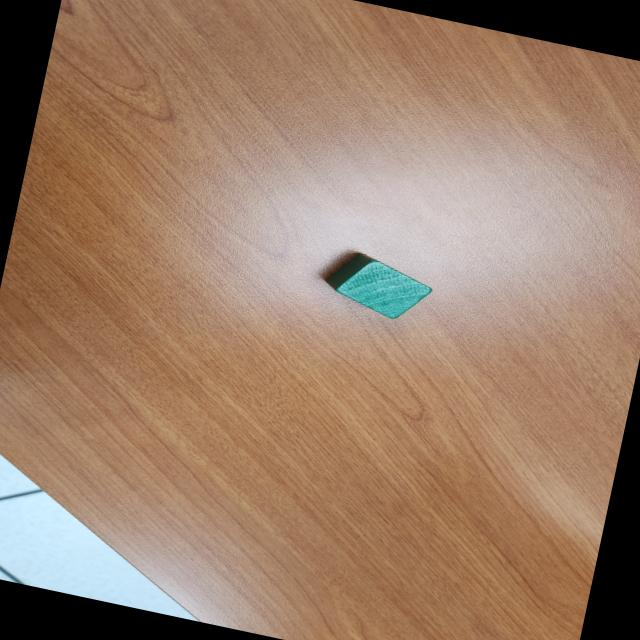green: (320, 246, 436, 325)
